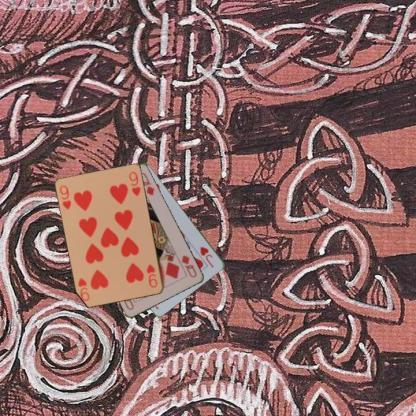9h: (144, 262, 159, 289), (58, 182, 72, 210)
Jh: (198, 244, 216, 270)
Qd: (179, 252, 198, 280)
